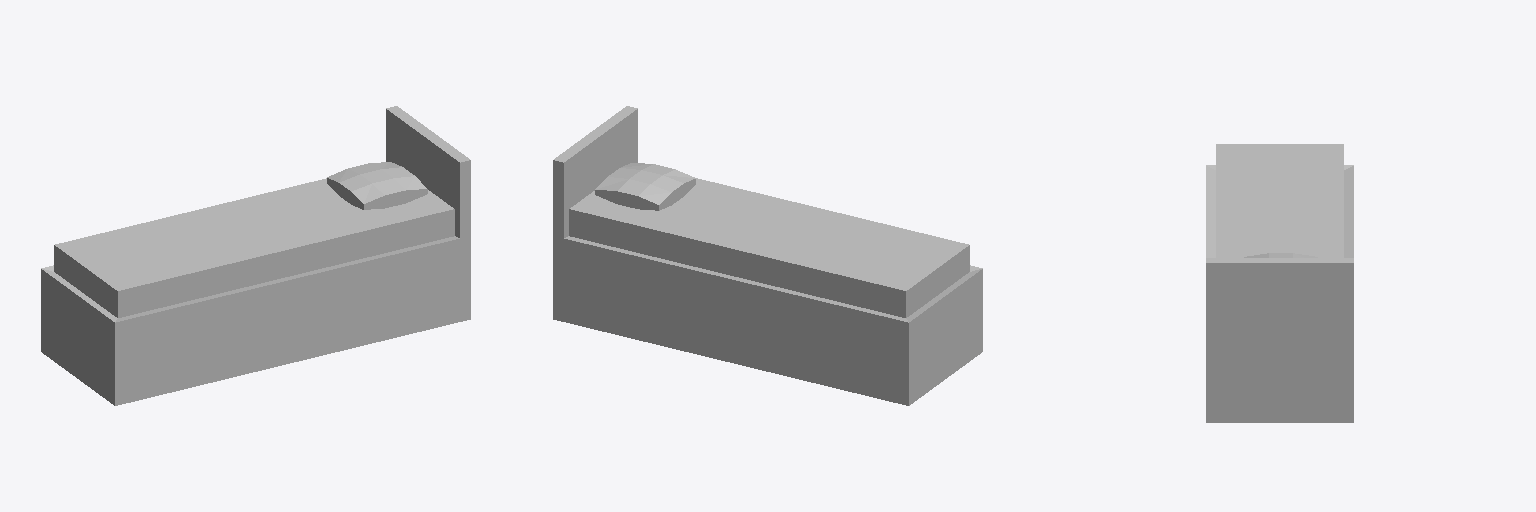
Rendered from Bad.obj.
3 views of the same model, side by side, from view 1: azimuth 30°, elevation 25°; view 2: azimuth 150°, elevation 25°; view 3: azimuth 270°, elevation 25° (orthographic).
Visible parts, largest first — view 1: ThisBad; view 2: ThisBad; view 3: ThisBad.
Boxes of the visible parts, <box> form: ThisBad: <box>41,106,470,405</box>; ThisBad: <box>553,106,982,405</box>; ThisBad: <box>1206,144,1353,422</box>.
Size of the model in its own units: 2.27 by 0.9718 by 0.82.